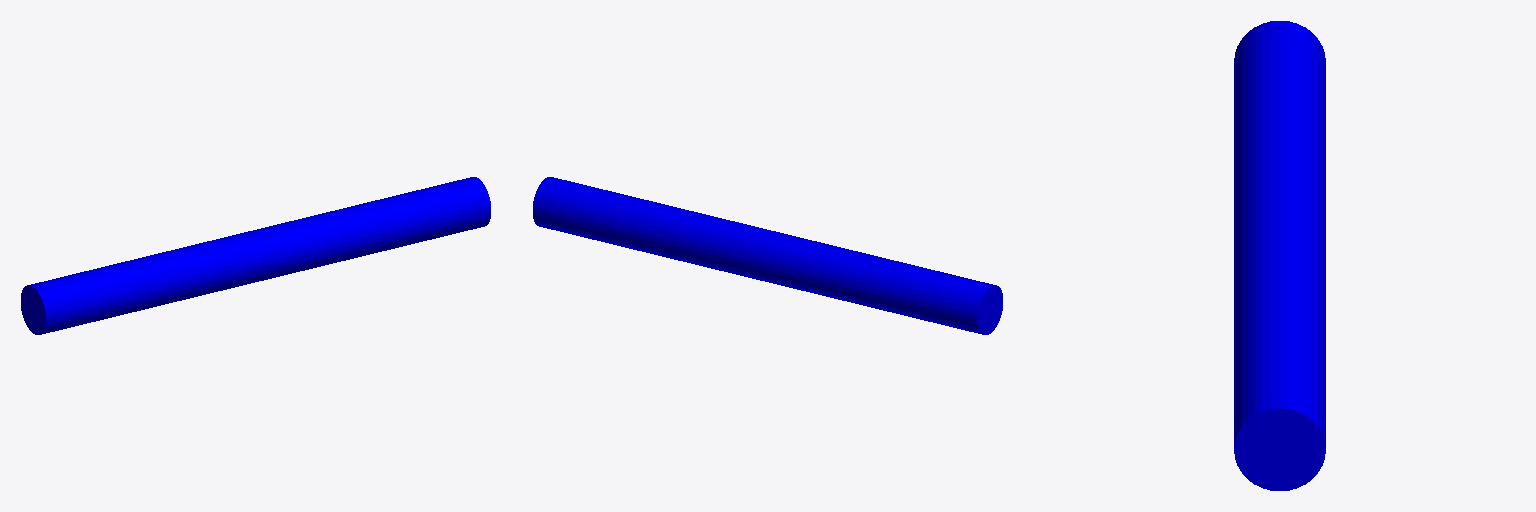
URDF robot description (irb120):
<?xml version="1.0" ?>
<!-- =================================================================================== -->
<!-- |    This document was autogenerated by xacro from urdf/irb120.urdf.xacro         | -->
<!-- |    EDITING THIS FILE BY HAND IS NOT RECOMMENDED                                 | -->
<!-- =================================================================================== -->
<!-- 

# ===================================== COPYRIGHT ===================================== #
#                                                                                       #
#  IFRA (Intelligent Flexible Robotics and Assembly) Group, CRANFIELD UNIVERSITY        #
#  Created on behalf of the IFRA Group at Cranfield University, United Kingdom          #
#  E-mail: [email redacted]                                                         #
#                                                                                       #
#  Licensed under the Apache-2.0 License.                                               #
#  You may not use this file except in compliance with the License.                     #
#  You may obtain a copy of the License at: http://www.apache.org/licenses/LICENSE-2.0  #
#                                                                                       #
#  Unless required by applicable law or agreed to in writing, software distributed      #
#  under the License is distributed on an "as-is" basis, without warranties or          #
#  conditions of any kind, either express or implied. See the License for the specific  #
#  language governing permissions and limitations under the License.                    #
#                                                                                       #
#  IFRA Group - Cranfield University                                                    #
#  AUTHORS: [author] - [email redacted]                         #
#           [author]      - [email redacted]                                   #
#           [author]        - [email redacted]                                 #
#                                                                                       #
#  Date: July, 2022.                                                                    #
#                                                                                       #
# ===================================== COPYRIGHT ===================================== #

# ===================================== COPYRIGHT ===================================== #
#                                                                                       #
#  Some of the information used to build the ROS2 ABB-IRB120 .urdf files in this ROS2   #
#  repository has been taken from the following resource:                               #
#       - abb_experimental (https://github.com/ros-industrial/abb_experimental)         #
#                                                                                       #
#  AUTHORS:                                                                             #
#       - ROS-Industrial - https://rosindustrial.org                                    #
#       - [author] (Trinity College Dublin) - [email redacted]                      #
#       - [author]   (Trinity College Dublin)                                        #
#                                                                                       #
#  COPYRIGHT - ROS-Industrial                                                           #
#  (ORIGINAL LICENSE) -> Licensed under the Apache-2.0 License.                         #
#                                                                                       #
#  CHANGES MADE:                                                                        #
#  The original files contain the .urdf information of the robot for ROS1, and these    #
#  have been modified for ROS2.                                                         #
#                                                                                       #
# ===================================== COPYRIGHT ===================================== #

# ======= CITE OUR WORK ======= #
# You can cite our work with the following statement:
# IFRA (2022) ROS2.0 ROBOT SIMULATION. URL: https://github.com/IFRA-Cranfield/ros2_RobotSimulation.

-->
<robot name="irb120">
  <!-- ===== ARGUMENTS ===== -->
  <!-- Conversion were obtained from http://www.e-paint.co.uk/Lab_values.asp
       unless otherwise stated. -->
  <!-- ***** ABB-IRB120 ROBOT .urdf SERIAL CHAIN ***** -->
  <!-- Link list: -->
  <!-- base_link -->
  <link name="base_link">
    <inertial>
      <mass value="6.215"/>
      <origin rpy="0 0 0" xyz="-0.04204 8.01E-05 0.07964"/>
      <inertia ixx="0.0247272" ixy="-8.0784E-05" ixz="0.00130902" iyy="0.0491285" iyz="-8.0419E-06" izz="0.0472376"/>
    </inertial>
    <visual>
      <origin rpy="0 0 0" xyz="0 0 0"/>
      <geometry>
        <mesh filename="file://[local-path]/Documents/mujoco/meshes/visual/base_link.dae"/>
      </geometry>
      <material name="">
        <color rgba="0.7372549 0.3490196 0.1607843 1"/>
      </material>
    </visual>
    <collision>
      <origin rpy="0 0 0" xyz="0 0 0"/>
      <geometry>
        <mesh filename="file://[local-path]/Documents/mujoco/meshes/collision/base_link.stl"/>
      </geometry>
      <material name="">
        <color rgba="1 1 0 1"/>
      </material>
    </collision>
  </link>
  <!-- link_1 -->
  <link name="link_1">
    <inertial>
      <mass value="3.067"/>
      <origin rpy="0 0 0" xyz="9.77E-05 -0.00012 0.23841"/>
      <inertia ixx="0.0142175" ixy="-1.28579E-05" ixz="-2.31364E-05" iyy="0.0144041" iyz="1.93404E-05" izz="0.0104533"/>
    </inertial>
    <visual>
      <origin rpy="0 0 0" xyz="0 0 0"/>
      <geometry>
        <mesh filename="file://[local-path]/Documents/mujoco/meshes/visual/link_1.dae"/>
      </geometry>
      <material name="">
        <color rgba="0.7372549 0.3490196 0.1607843 1"/>
      </material>
    </visual>
    <collision>
      <origin rpy="0 0 0" xyz="0 0 0"/>
      <geometry>
        <mesh filename="file://[local-path]/Documents/mujoco/meshes/collision/link_1.stl"/>
      </geometry>
      <material name="">
        <color rgba="1 1 0 1"/>
      </material>
    </collision>
  </link>
  <!-- link_2 -->
  <link name="link_2">
    <inertial>
      <mass value="3.909"/>
      <origin rpy="0 0 0" xyz="0.00078 -0.00212 0.10124"/>
      <inertia ixx="0.0603111" ixy="9.83431E-06" ixz="5.72407E-05" iyy="0.041569" iyz="-0.00050497" izz="0.0259548"/>
    </inertial>
    <visual>
      <origin rpy="0 0 0" xyz="0 0 0"/>
      <geometry>
        <mesh filename="file://[local-path]/Documents/mujoco/meshes/visual/link_2.dae"/>
      </geometry>
      <material name="">
        <color rgba="0.7372549 0.3490196 0.1607843 1"/>
      </material>
    </visual>
    <collision>
      <origin rpy="0 0 0" xyz="0 0 0"/>
      <geometry>
        <mesh filename="file://[local-path]/Documents/mujoco/meshes/collision/link_2.stl"/>
      </geometry>
      <material name="">
        <color rgba="1 1 0 1"/>
      </material>
    </collision>
  </link>
  <!-- link_3 -->
  <link name="link_3">
    <inertial>
      <mass value="2.944"/>
      <origin rpy="0 0 0" xyz="0.02281 0.00106 0.05791"/>
      <inertia ixx="0.00835606" ixy="-8.01545E-05" ixz="0.00142884" iyy="0.016713" iyz="-0.000182227" izz="0.0126984"/>
    </inertial>
    <visual>
      <origin rpy="0 0 0" xyz="0 0 0"/>
      <geometry>
        <mesh filename="file://[local-path]/Documents/mujoco/meshes/visual/link_3.dae"/>
      </geometry>
      <material name="">
        <color rgba="0.7372549 0.3490196 0.1607843 1"/>
      </material>
    </visual>
    <collision>
      <origin rpy="0 0 0" xyz="0 0 0"/>
      <geometry>
        <mesh filename="file://[local-path]/Documents/mujoco/meshes/collision/link_3.stl"/>
      </geometry>
      <material name="">
        <color rgba="1 1 0 1"/>
      </material>
    </collision>
  </link>
  <!-- link_4 -->
  <link name="link_4">
    <inertial>
      <mass value="1.328"/>
      <origin rpy="0 0 0" xyz="0.2247 0.00015 0.00041"/>
      <inertia ixx="0.00284661" ixy="-2.12765E-05" ixz="-1.6435E-05" iyy="0.00401346" iyz="1.31336E-05" izz="0.0052535"/>
    </inertial>
    <visual>
      <origin rpy="0 0 0" xyz="0 0 0"/>
      <geometry>
        <mesh filename="file://[local-path]/Documents/mujoco/meshes/visual/link_4.dae"/>
      </geometry>
      <material name="">
        <color rgba="0.7372549 0.3490196 0.1607843 1"/>
      </material>
    </visual>
    <collision>
      <origin rpy="0 0 0" xyz="0 0 0"/>
      <geometry>
        <mesh filename="file://[local-path]/Documents/mujoco/meshes/collision/link_4.stl"/>
      </geometry>
      <material name="">
        <color rgba="1 1 0 1"/>
      </material>
    </collision>
  </link>
  <!-- link_5 -->
  <link name="link_5">
    <inertial>
      <mass value="0.546"/>
      <origin rpy="0 0 0" xyz="-0.00109 3.68E-05 6.22E-05"/>
      <inertia ixx="0.000404891" ixy="1.61943E-06" ixz="8.46805E-07" iyy="0.000892825" iyz="-1.51792E-08" izz="0.000815468"/>
    </inertial>
    <visual>
      <origin rpy="0 0 0" xyz="0 0 0"/>
      <geometry>
        <mesh filename="file://[local-path]/Documents/mujoco/meshes/visual/link_5.dae"/>
      </geometry>
      <material name="">
        <color rgba="0.7372549 0.3490196 0.1607843 1"/>
      </material>
    </visual>
    <collision>
      <origin rpy="0 0 0" xyz="0 0 0"/>
      <geometry>
        <mesh filename="file://[local-path]/Documents/mujoco/meshes/collision/link_5.stl"/>
      </geometry>
      <material name="">
        <color rgba="1 1 0 1"/>
      </material>
    </collision>
  </link>
  <!-- link_6 -->
  <link name="link_6">
    <inertial>
      <mass value="0.137"/>
      <origin rpy="0 0 0" xyz="-0.00706 -0.00017 -1.32E-06"/>
      <inertia ixx="0.001" ixy="0" ixz="0" iyy="0.001" iyz="0" izz="0.001"/>
    </inertial>
    <visual>
      <origin rpy="0 0 0" xyz="0 0 0"/>
      <geometry>
        <mesh filename="file://[local-path]/Documents/mujoco/meshes/visual/link_6.dae"/>
      </geometry>
      <material name="">
        <color rgba="0.1882353 0.1960784 0.2039216 1"/>
      </material>
    </visual>
    <collision>
      <origin rpy="0 0 0" xyz="0 0 0"/>
      <geometry>
        <mesh filename="file://[local-path]/Documents/mujoco/meshes/collision/link_6.stl"/>
      </geometry>
      <material name="">
        <color rgba="1 1 0 1"/>
      </material>
    </collision>
  </link>
  <!-- end of link list -->
  <!-- Joint list: -->
  <!-- joint_1 -->
  <joint name="joint_1" type="revolute">
    <origin rpy="0 0 0" xyz="0 0 0"/>
    <parent link="base_link"/>
    <child link="link_1"/>
    <limit effort="0" lower="-2.87979" upper="2.87979" velocity="4.36332"/>
    <axis xyz="0 0 1"/>
    <dynamics damping="50.0" friction="1.0"/>
  </joint>
  <!-- joint_2 -->
  <joint name="joint_2" type="revolute">
    <origin rpy="0 0 0" xyz="0 0 0.29"/>
    <parent link="link_1"/>
    <child link="link_2"/>
    <limit effort="0" lower="-1.91986" upper="1.91986" velocity="4.36332"/>
    <axis xyz="0 1 0"/>
    <dynamics damping="50.0" friction="1.0"/>
  </joint>
  <!-- joint_3 -->
  <joint name="joint_3" type="revolute">
    <origin rpy="0 0 0" xyz="0 0 0.27"/>
    <parent link="link_2"/>
    <child link="link_3"/>
    <limit effort="0" lower="-1.91986" upper="1.22173" velocity="4.36332"/>
    <axis xyz="0 1 0"/>
    <dynamics damping="10.0" friction="1.0"/>
  </joint>
  <!-- joint_4 -->
  <joint name="joint_4" type="revolute">
    <origin rpy="0 0 0" xyz="0 0 0.07"/>
    <parent link="link_3"/>
    <child link="link_4"/>
    <limit effort="0" lower="-2.79253" upper="2.79253" velocity="5.58505"/>
    <axis xyz="1 0 0"/>
    <dynamics damping="5.0" friction="1.0"/>
  </joint>
  <!-- joint_5 -->
  <joint name="joint_5" type="revolute">
    <origin rpy="0 0 0" xyz="0.302 0 0"/>
    <parent link="link_4"/>
    <child link="link_5"/>
    <limit effort="0" lower="-2.094395" upper="2.094395" velocity="5.58505"/>
    <axis xyz="0 1 0"/>
    <dynamics damping="2.0" friction="1.0"/>
  </joint>
  <!-- joint_6 -->
  <joint name="joint_6" type="revolute">
    <origin rpy="0 0 0" xyz="0.072 0 0"/>
    <parent link="link_5"/>
    <child link="link_6"/>
    <limit effort="0" lower="-6.98132" upper="6.98132" velocity="7.33038"/>
    <axis xyz="1 0 0"/>
    <dynamics damping="1.0" friction="1.0"/>
  </joint>
  <!-- end of joint list -->
  <!-- ROS-Industrial 'base' frame: base_link to ABB World Coordinates transform -->
  <link name="base"/>
  <joint name="base_link-base" type="fixed">
    <origin rpy="0 0 0" xyz="0 0 0"/>
    <parent link="base_link"/>
    <child link="base"/>
  </joint>
  <!-- ROS-Industrial 'flange' frame: attachment point for EEF models -->
  <link name="flange"/>
  <joint name="joint_6-flange" type="fixed">
    <origin rpy="0 0 0" xyz="0 0 0"/>
    <parent link="link_6"/>
    <child link="flange"/>
  </joint>
  <!-- ROS-Industrial 'tool0' frame: all-zeros tool frame -->
  <link name="tool0"/>
  <joint name="link_6-tool0" type="fixed">
    <origin rpy="0 1.5707963267948966 0" xyz="0 0 0"/>
    <parent link="flange"/>
    <child link="tool0"/>
  </joint>
  <!-- ================================================= -->
  <!-- ============= HYLAND ADDED PUSH ROD ============= -->
  <link name="pushing_rod">
    <visual>
      <origin rpy="0 0 0" xyz="0 0 0.101"/>
      <!-- 0.1 is 50% the length of the rod -->
      <geometry>
        <cylinder length="0.2" radius="0.01"/>
      </geometry>
      <material name="blue">
        <color rgba="0 0 1 1"/>
      </material>
    </visual>
    <collision>
      <origin rpy="0 0 0" xyz="0 0 0.151"/>
      <geometry>
        <cylinder length="0.2" radius="0.01"/>
      </geometry>
    </collision>
    <inertial>
      <mass value="0.1"/>
      <origin rpy="0 0 0" xyz="0 0 0.151"/>
      <inertia ixx="0.0001" ixy="0.0" ixz="0.0" iyy="0.0001" iyz="0.0" izz="0.0001"/>
    </inertial>
  </link>
  <joint name="pushing_rod_fixed" type="fixed">
    <parent link="tool0"/>
    <!-- or whatever your end effector link is -->
    <child link="pushing_rod"/>
    <origin rpy="0 0 0" xyz="0 0 0"/>
  </joint>
  <!-- Gazebo WORLD link: -->
  <link name="world"/>
  <joint name="world-base_link-fixed" type="fixed">
    <parent link="world"/>
    <child link="base_link"/>
  </joint>
</robot>

--- What the picture shows (computed from the rendered views, not written in the file) ---
The picture shows the robot from 3 angles, left to right: view 1: azimuth 30°, elevation 25°; view 2: azimuth 150°, elevation 25°; view 3: azimuth 270°, elevation 25°; orthographic projection.
Robot: irb120 — 12 links, 11 joints (6 revolute, 5 fixed); root link world; default pose: all joints at 0.
Links seen in each view (by area): view 1: pushing_rod; view 2: pushing_rod; view 3: pushing_rod.
Boxes of the visible links, <box> form: pushing_rod: <box>21,177,490,334</box>; pushing_rod: <box>533,177,1002,334</box>; pushing_rod: <box>1234,21,1325,490</box>.
Bounding box of the posed robot: 0.2 × 0.02 × 0.02 m (x, y, z).
Geometry: only primitive shapes (box / cylinder / sphere) drawn; not drawn: 7 mesh visuals (reference in a form the renderer does not follow).